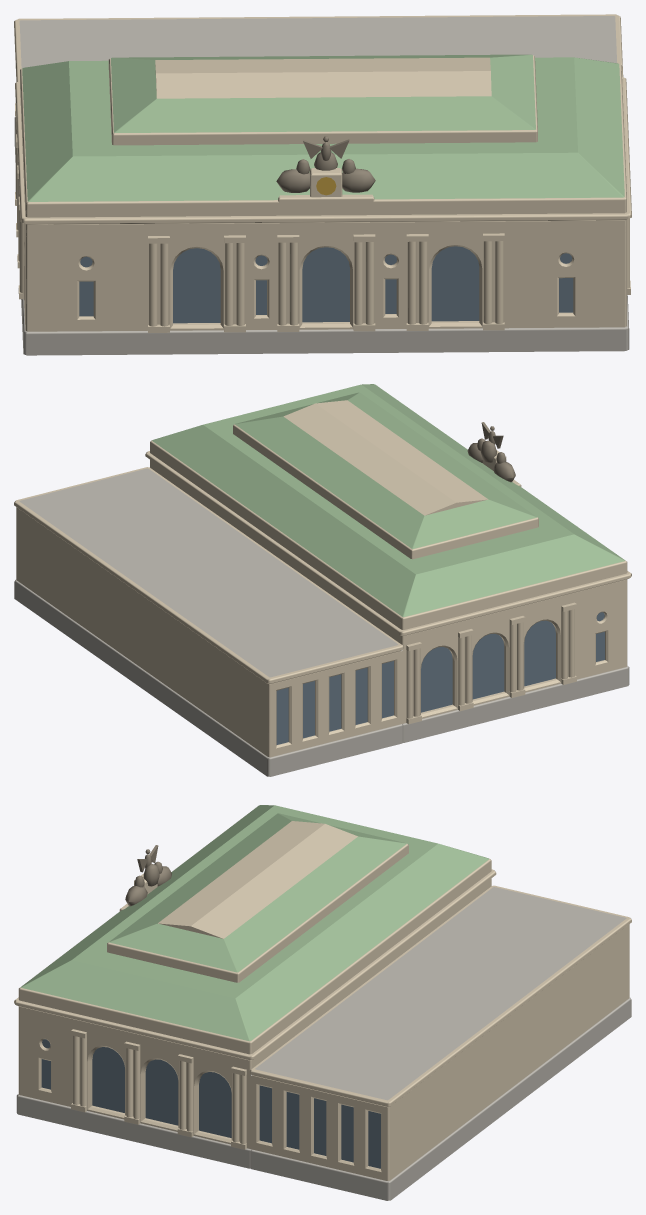
The model's file is detail.glb.
The picture shows the model from 3 angles, top to bottom: view 1: azimuth 30°, elevation 25°; view 2: azimuth 150°, elevation 25°; view 3: azimuth 270°, elevation 25°; orthographic projection. The views are drawn at different scales.
Parts seen in each view (by area): view 1: grand-central-terminal; view 2: grand-central-terminal; view 3: grand-central-terminal.
Boxes of the visible parts, box(x1,y1,x2,y2) form: grand-central-terminal: box(14, 14, 631, 355); grand-central-terminal: box(14, 384, 631, 776); grand-central-terminal: box(14, 805, 631, 1200).
Size of the model in its own units: 154 by 45.8 by 147.
